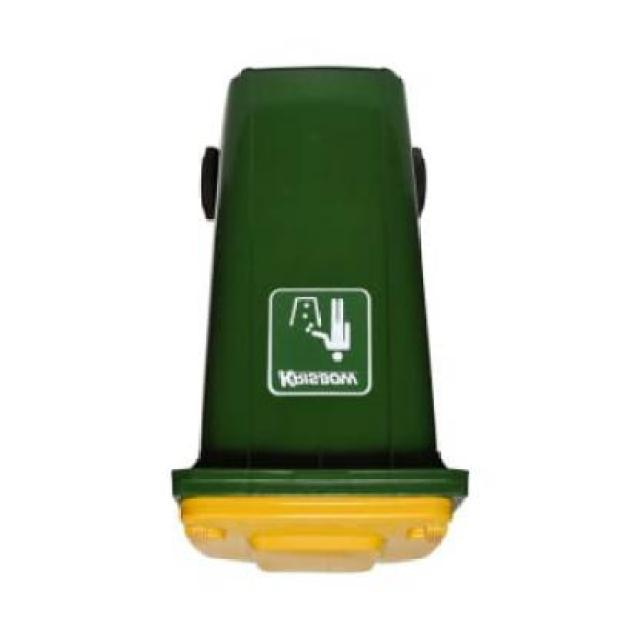garbage container: (153, 52, 487, 588)
